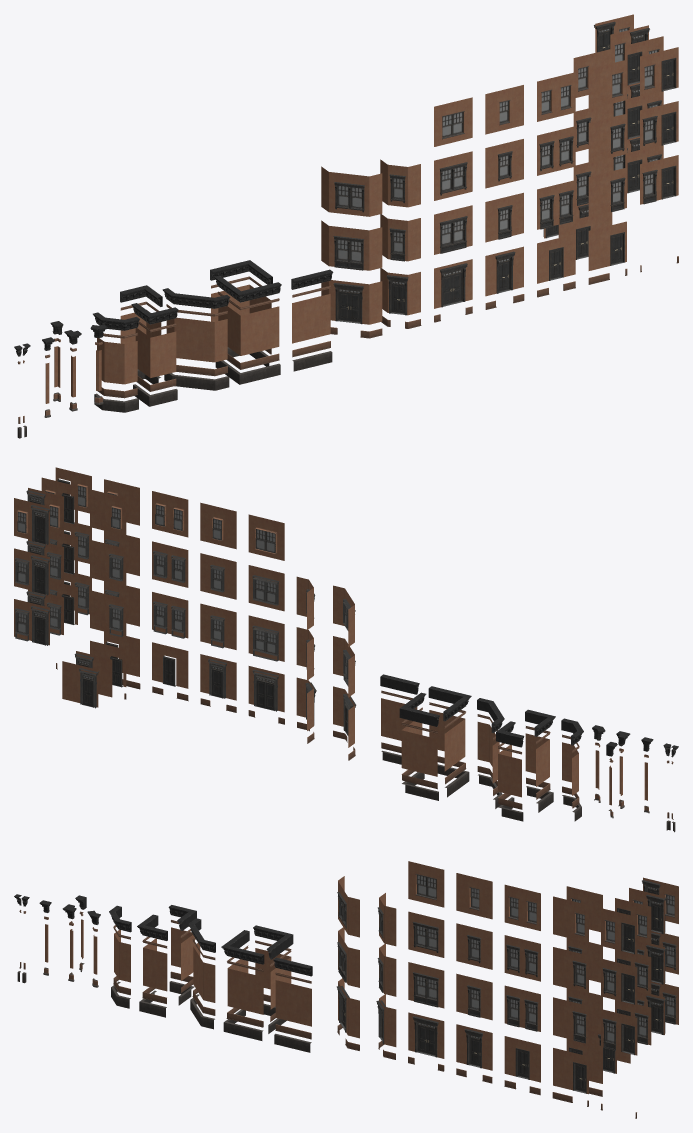
The model's file is modular_urban_apartments_facade_1k.fbx.
3 views of the same model, one above another, from view 1: azimuth 30°, elevation 25°; view 2: azimuth 150°, elevation 25°; view 3: azimuth 330°, elevation 25° (orthographic). The views are drawn at different scales.
Visible parts, largest first — view 1: wall_standard_corner_large_01, wall_standard_angled_large_01, wall_window_angled_large_02, wall_window_angled_large_01, wall_standard_corner_small_01, wall_standard_standard_01, wall_standard_angled_small_01, wall_window_offset_small_05, wall_window_centered_small_03, wall_window_centered_small_02, wall_door_angled_large_01, wall_window_angled_small_02 (+38 smaller); view 2: wall_standard_corner_large_02, wall_standard_corner_large_01, wall_window_offset_small_06, wall_window_centered_small_03, wall_window_centered_small_02, wall_window_offset_small_04, wall_window_centered_small_01, wall_window_offset_small_02, wall_window_centered_double_03, wall_door_centered_small_02, wall_window_centered_large_03, door_window_small_04 (+38 smaller); view 3: wall_standard_corner_large_01, wall_standard_standard_01, wall_window_centered_small_03, wall_window_offset_small_05, wall_window_centered_small_02, wall_window_offset_small_03, wall_window_centered_small_01, wall_window_centered_double_03, wall_door_centered_small_02, wall_standard_corner_small_01, wall_window_offset_small_01, wall_window_centered_large_03 (+58 smaller).
Boxes of the visible parts, box(x1,y1,x2,y2) form: wall_standard_corner_large_01: box(218, 306, 279, 355); wall_standard_angled_large_01: box(166, 317, 227, 362); wall_window_angled_large_02: box(321, 166, 382, 216); wall_window_angled_large_01: box(321, 220, 382, 270); wall_standard_corner_small_01: box(135, 328, 176, 377); wall_standard_standard_01: box(292, 294, 330, 343); wall_standard_angled_small_01: box(97, 338, 137, 384); wall_window_offset_small_05: box(588, 59, 626, 109); wall_window_centered_small_03: box(485, 85, 523, 134); wall_window_centered_small_02: box(485, 139, 523, 188); wall_door_angled_large_01: box(321, 280, 382, 324); wall_window_angled_small_02: box(380, 159, 420, 207); wall_standard_corner_large_02: box(401, 721, 437, 776); wall_standard_corner_large_01: box(429, 710, 465, 771); wall_window_offset_small_06: box(90, 489, 126, 535); wall_window_centered_small_03: box(200, 502, 236, 549); wall_window_centered_small_02: box(200, 553, 236, 599); wall_window_offset_small_04: box(90, 540, 126, 586); wall_window_centered_small_01: box(200, 603, 236, 649); wall_window_offset_small_02: box(90, 590, 126, 636); wall_window_centered_double_03: box(152, 491, 188, 537); wall_door_centered_small_02: box(152, 642, 188, 688); wall_window_centered_large_03: box(248, 514, 284, 560); door_window_small_04: box(14, 605, 51, 645); wall_standard_corner_large_01: box(227, 959, 263, 1014); wall_standard_standard_01: box(275, 980, 311, 1026); wall_window_centered_small_03: box(456, 873, 492, 919); wall_window_offset_small_05: box(553, 896, 588, 942); wall_window_centered_small_02: box(456, 923, 492, 969); wall_window_offset_small_03: box(553, 947, 588, 993); wall_window_centered_small_01: box(456, 973, 492, 1020); wall_window_centered_double_03: box(504, 884, 540, 930); wall_door_centered_small_02: box(504, 1036, 540, 1082); wall_standard_corner_small_01: box(143, 938, 167, 991); wall_window_offset_small_01: box(553, 997, 588, 1043); wall_window_centered_large_03: box(408, 861, 444, 907).
Bounding box in the file's own units: 5153 × 1700 × 667.
Materials: 5 (5 with a texture image).
